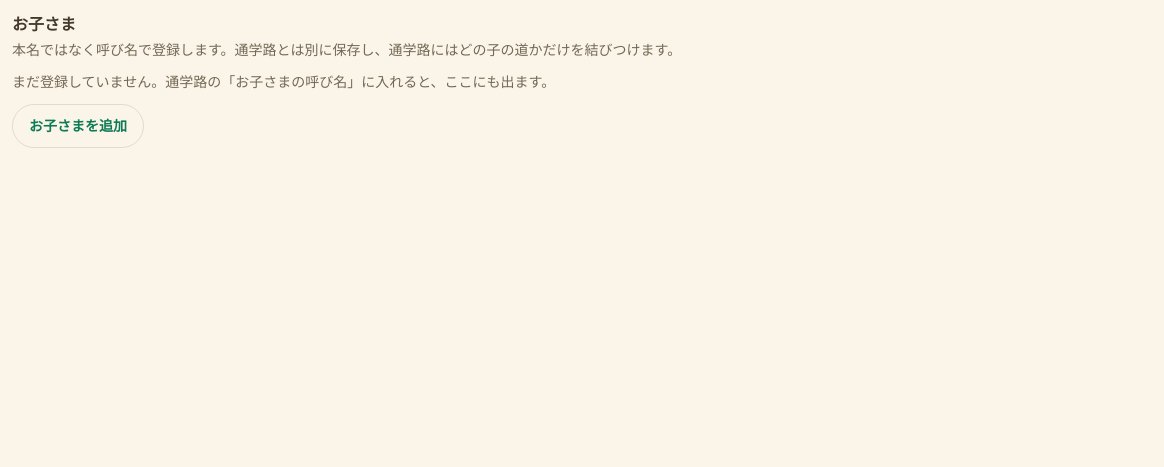
Test: ChildrenSettings(お子さまの登録) › 呼び名が空なら送らずに知らせ、API の日本語のエラーはそのまま出す
Click the button "お子さまを追加" at {"x": 78, "y": 126}, box [12,104,144,148]
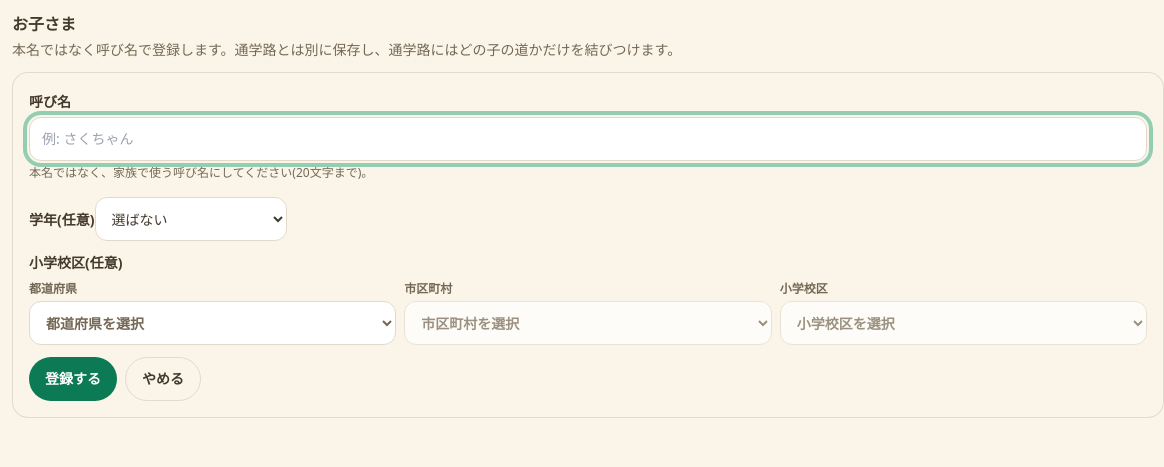
Click the button "登録する" at {"x": 73, "y": 379}, box [29,357,117,401]
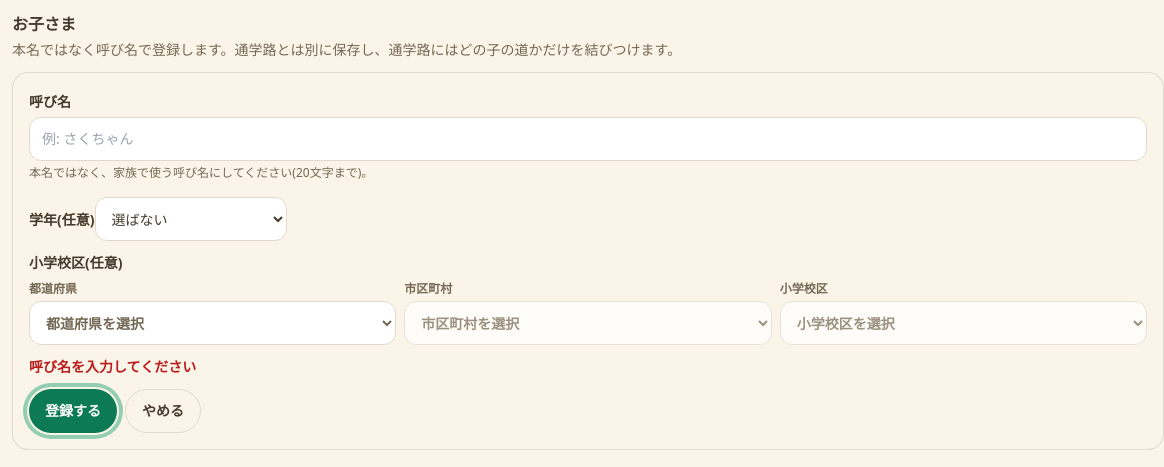
Result: the message reads "呼び名を入力してください" at [29,357,196,376]
Type "さくちゃん" into the field labelled "呼び名" at {"x": 588, "y": 139}, box [29,117,1147,161]
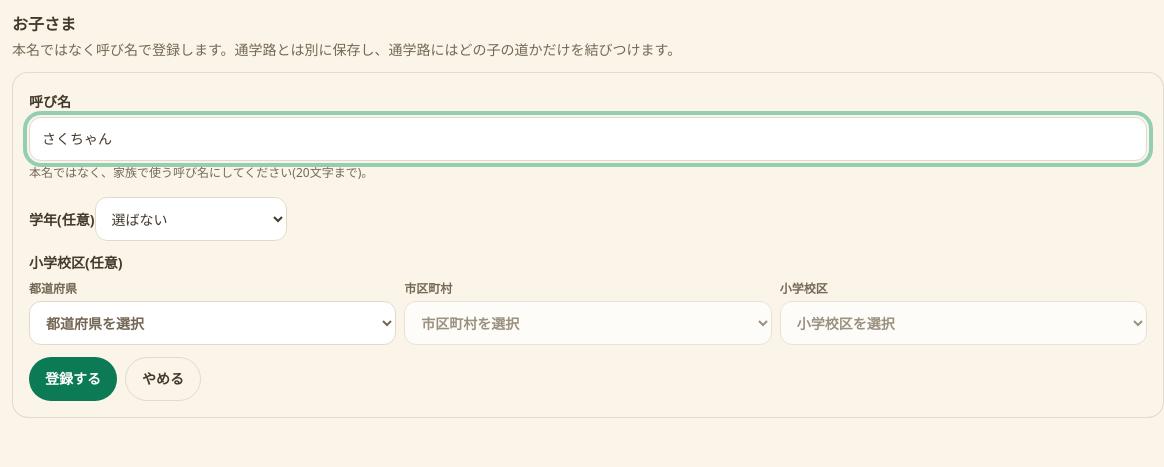
Click the button "登録する" at {"x": 73, "y": 379}, box [29,357,117,401]
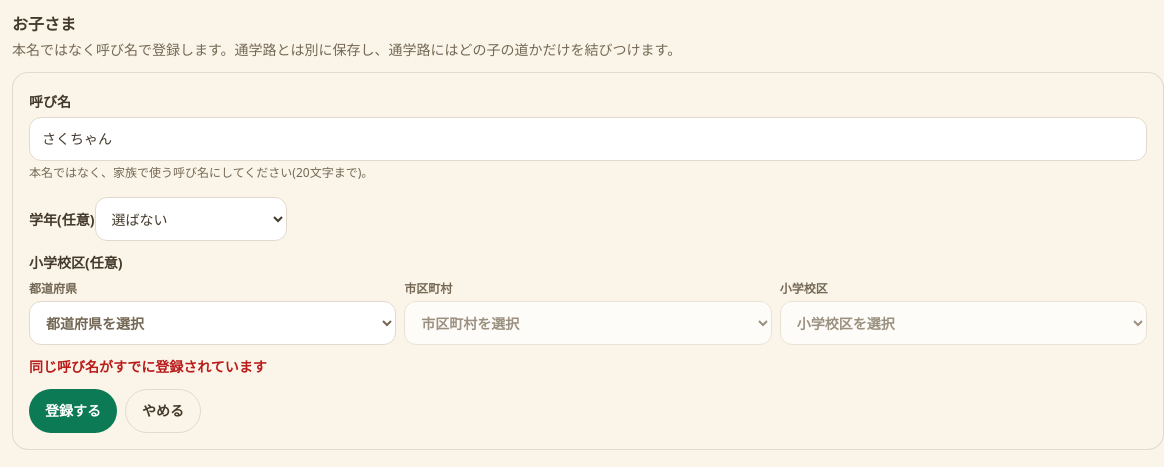
Result: the text "同じ呼び名がすでに登録されています" is shown at [29,357,267,376]
